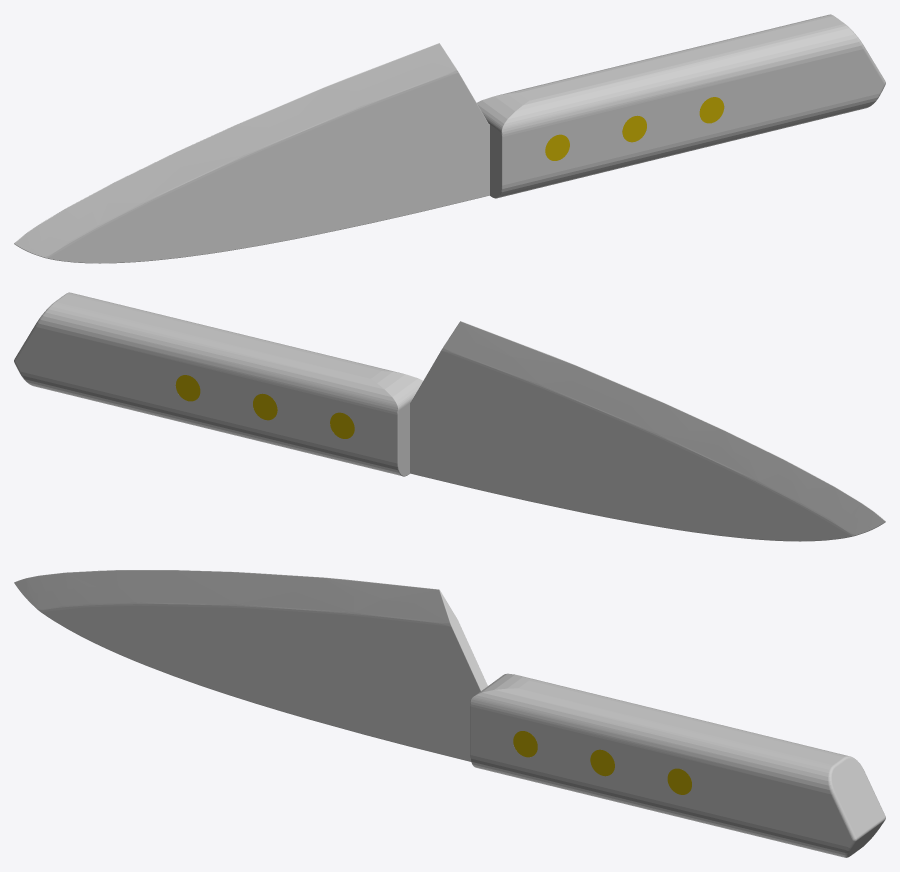
Rendered from Kitchen_Knife_1.fbx.
3 views of the same model, one above another, from view 1: azimuth 30°, elevation 25°; view 2: azimuth 150°, elevation 25°; view 3: azimuth 330°, elevation 25° (orthographic).
Parts seen in each view (by area): view 1: Object.001; view 2: Object.001; view 3: Object.001.
Boxes of the visible parts, x1,y1,x2,y2 form: Object.001: (14,14,885,263); Object.001: (14,292,885,541); Object.001: (14,570,885,857).
Size of the model in its own units: 27.78 by 1.8 by 5.
